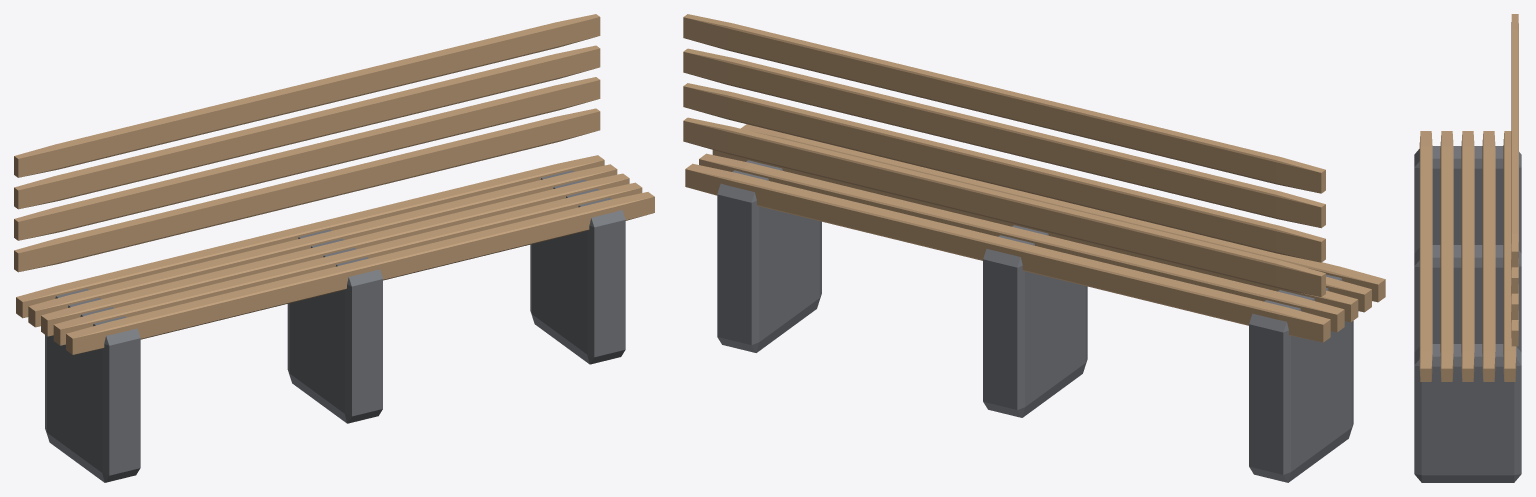
The model's file is b01_transit_leaning_rail.glb.
The picture shows the model from 3 angles, left to right: view 1: azimuth 30°, elevation 25°; view 2: azimuth 150°, elevation 25°; view 3: azimuth 270°, elevation 25°; orthographic projection. The views are drawn at different scales.
Visible parts, largest first — view 1: b01_transit_leaning_rail; view 2: b01_transit_leaning_rail; view 3: b01_transit_leaning_rail.
Part boxes in pixels (left/top/right/bottom): b01_transit_leaning_rail: left=14, top=14, right=654, bottom=482; b01_transit_leaning_rail: left=683, top=14, right=1385, bottom=482; b01_transit_leaning_rail: left=1414, top=14, right=1521, bottom=482.
Size of the model in its own units: 2 by 0.966 by 0.382.
